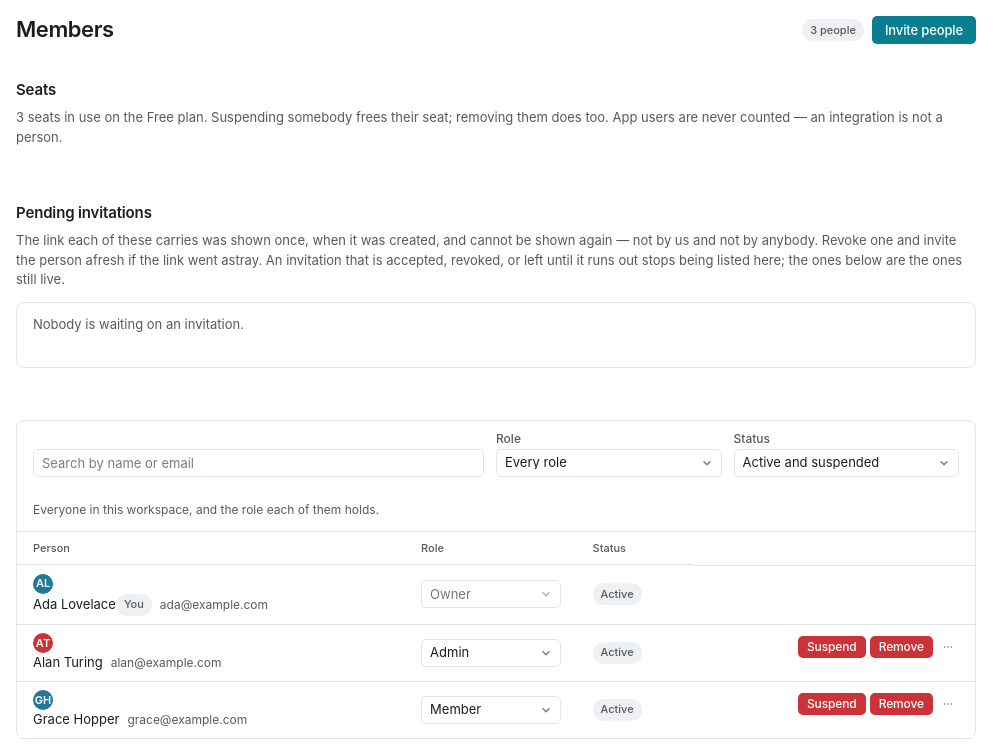
Test: the member table › narrows the table by name and by email
Type "grace" into the search field named "Search people". click: (258, 462)
box: top-left (42, 450), bottom-right (475, 476)
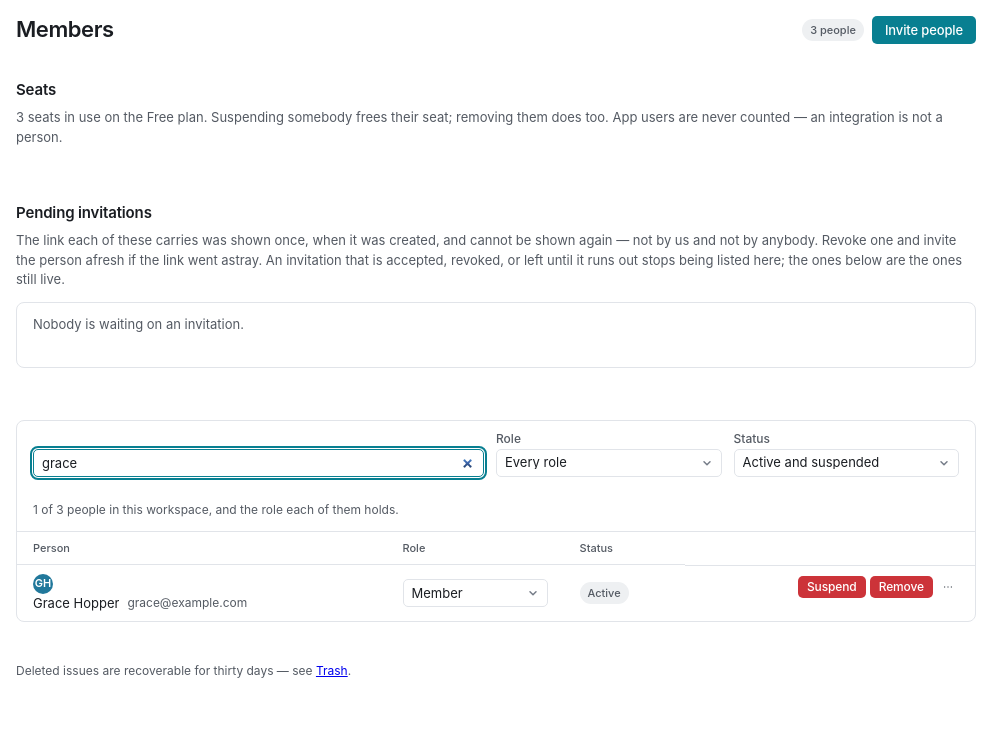
Expected: the text "Grace Hopper" is shown, top-left (33, 594), bottom-right (119, 613)
Now the text "Alan Turing" is gone
